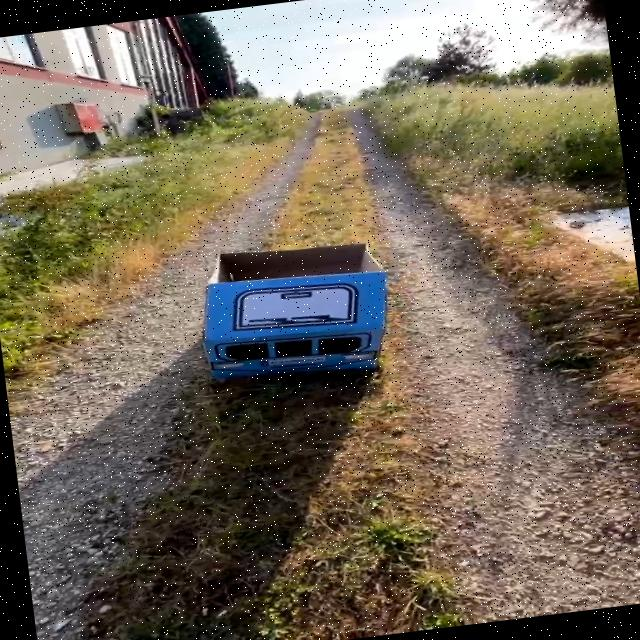blue_car: (139, 193, 439, 419)
